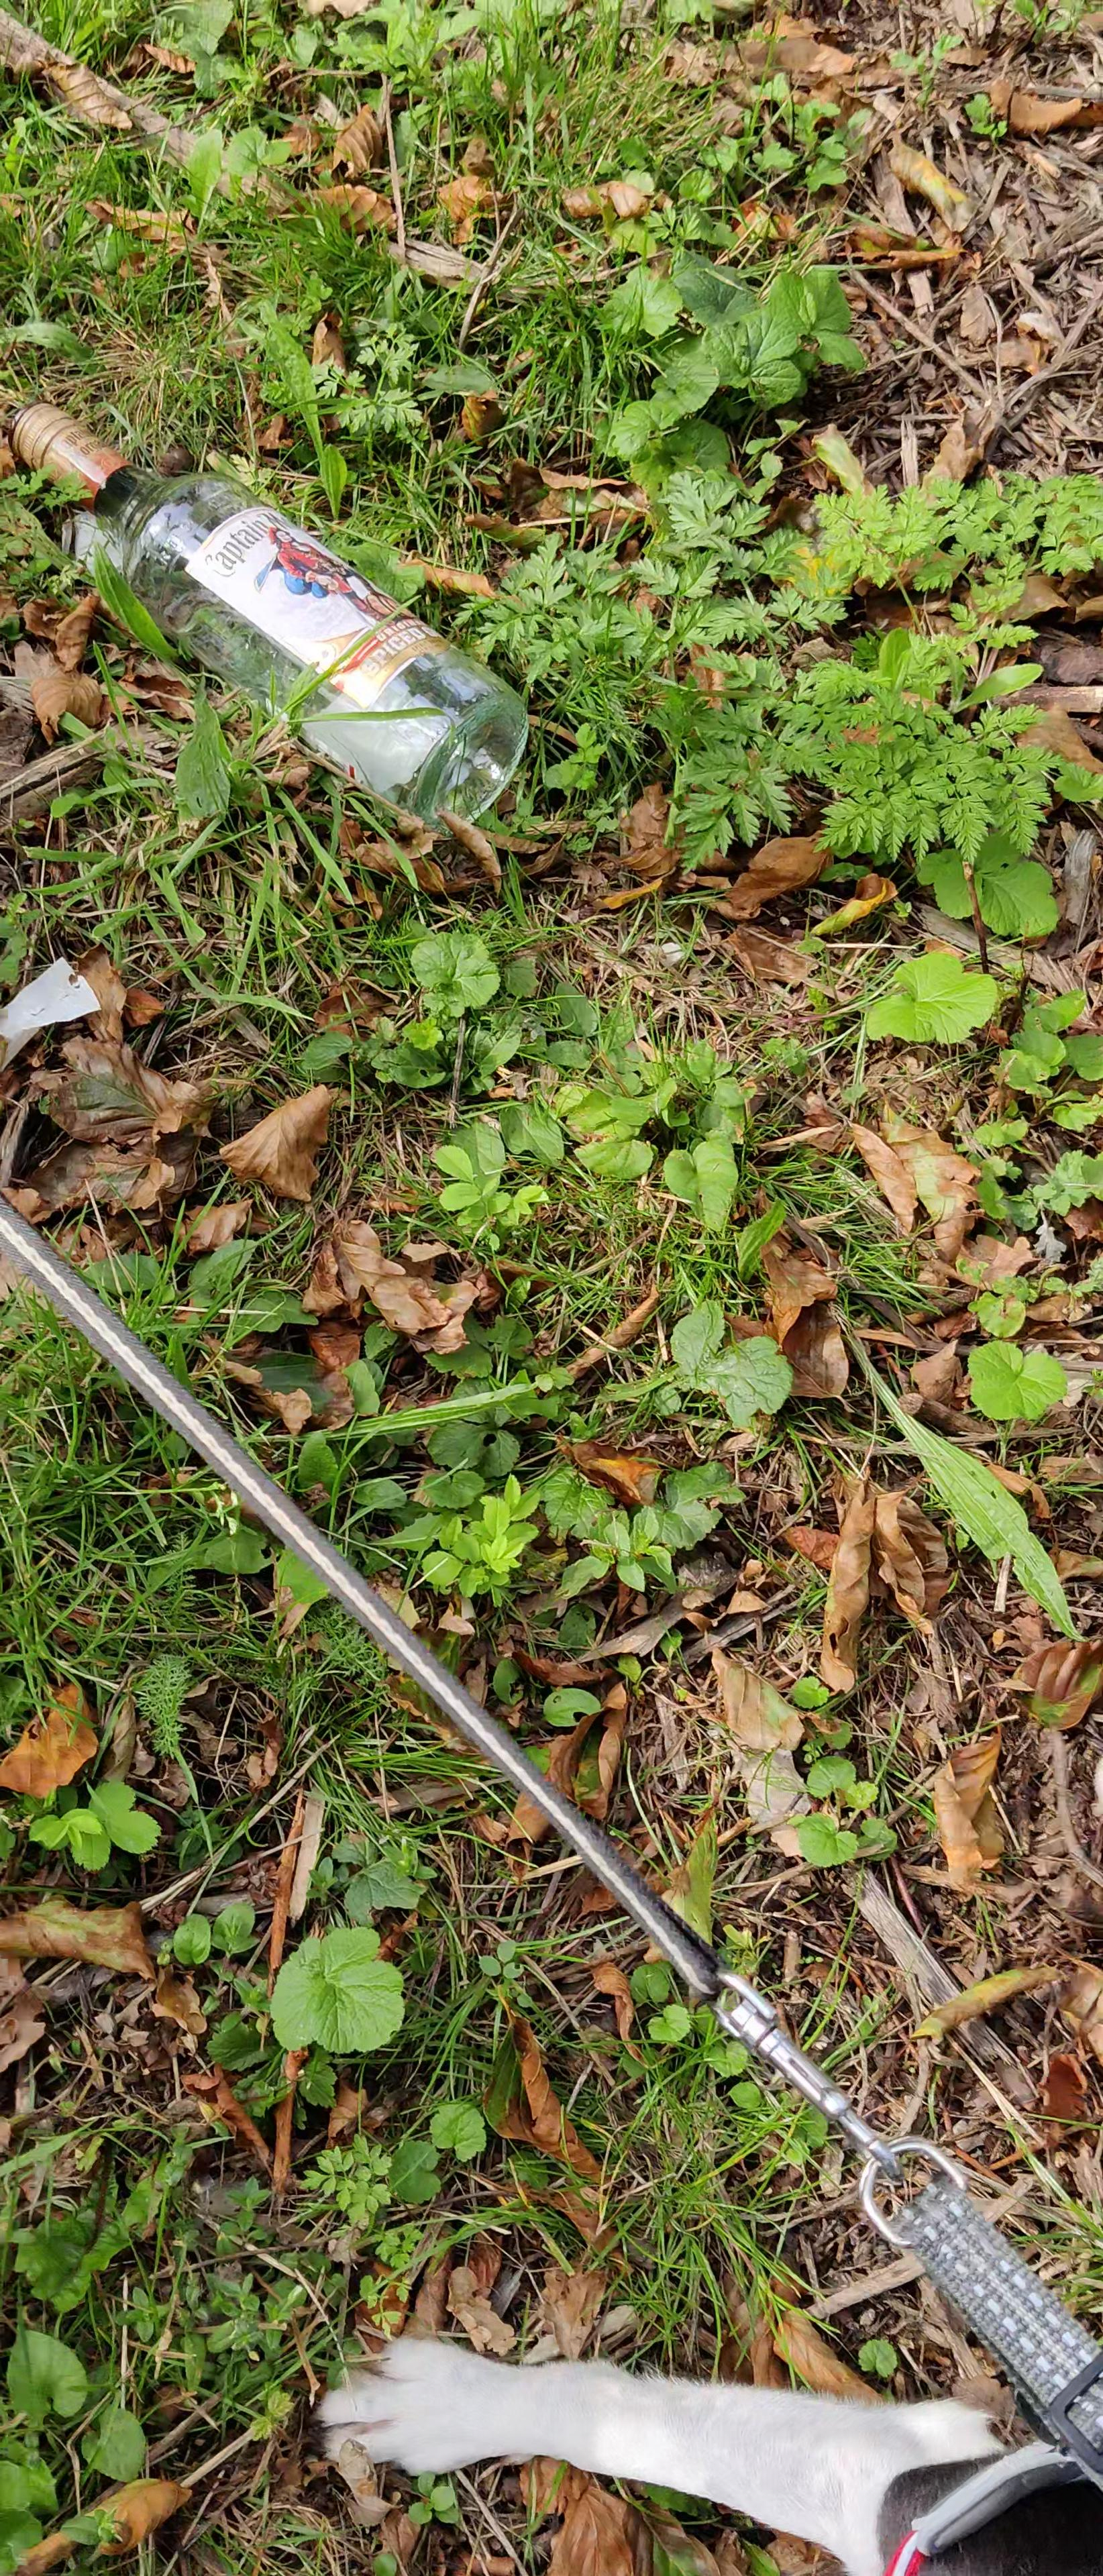Dog: (279, 2313, 1103, 2576)
